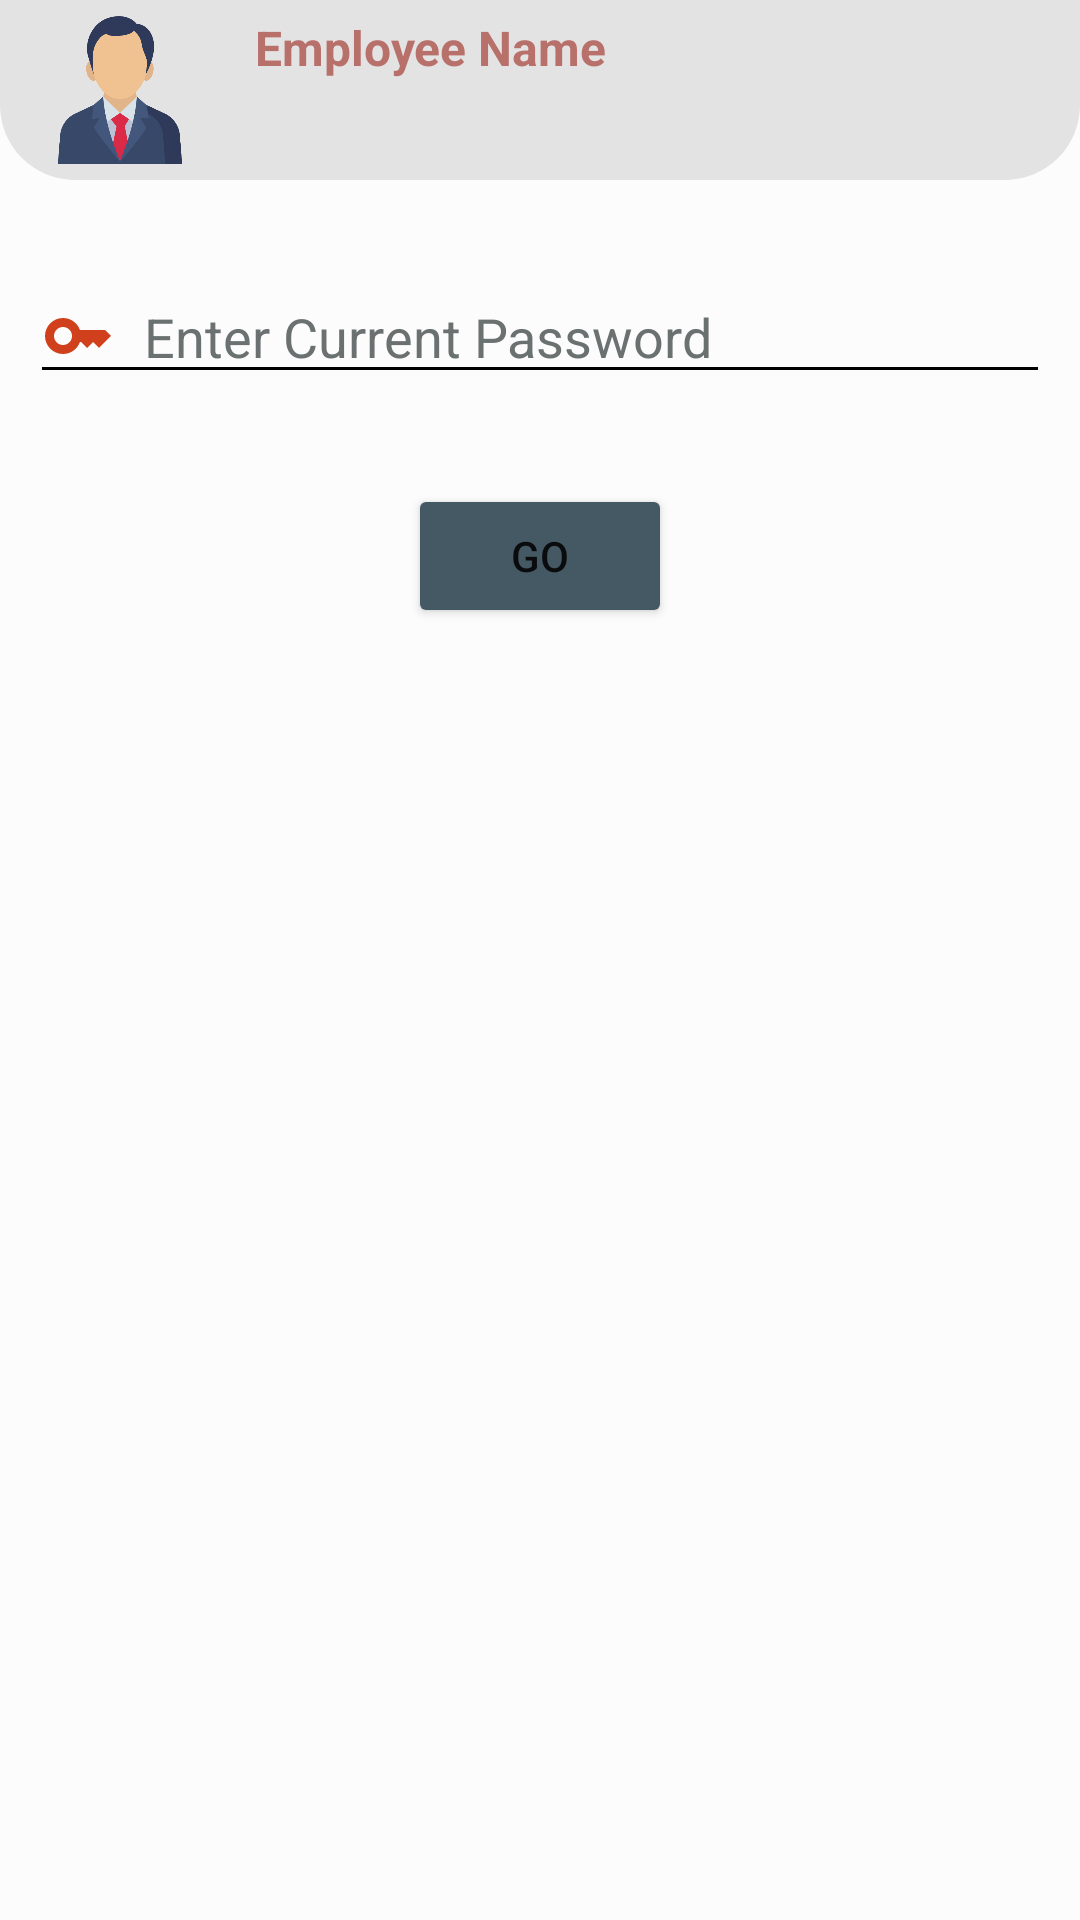

Named icons in this screenshot (1080×1920) and their centers, [x,y]:
manager: [120,90]
